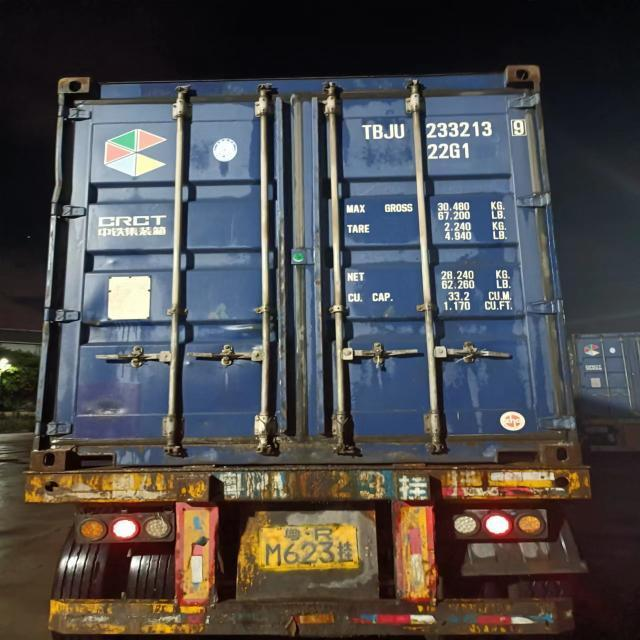ISO: (429, 140, 472, 160)
container_number: (362, 116, 530, 140)
